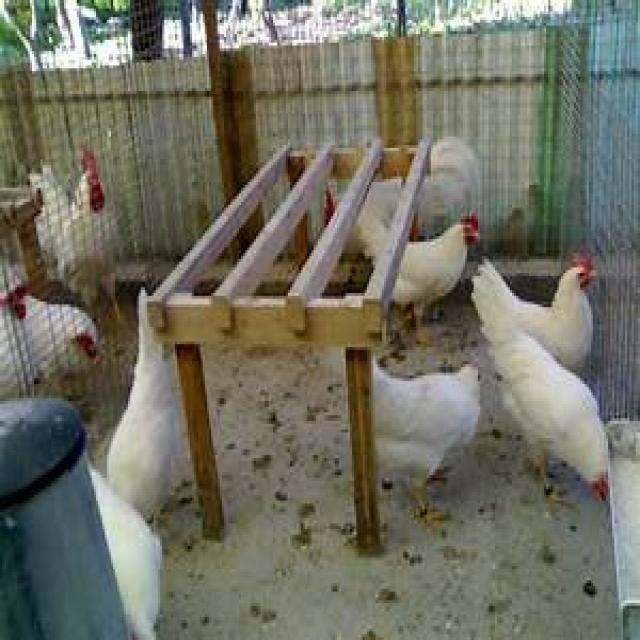animal: (490, 336, 612, 497), (109, 283, 188, 518), (366, 365, 483, 507), (476, 259, 598, 371), (376, 216, 480, 331), (36, 149, 114, 297), (6, 284, 101, 376)
